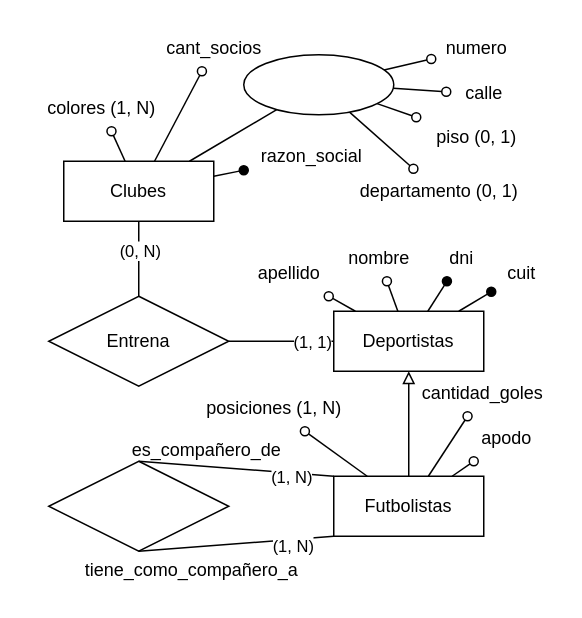
Image size: 582x618. Some labels were removed from this diagram. The shapes that lost their labels are listed below. From the top down, each one's box as (x1, y1, x2, y2) in pixels, then its label:
(242, 53, 394, 115): Dirección
(47, 460, 229, 551): Juega_con
